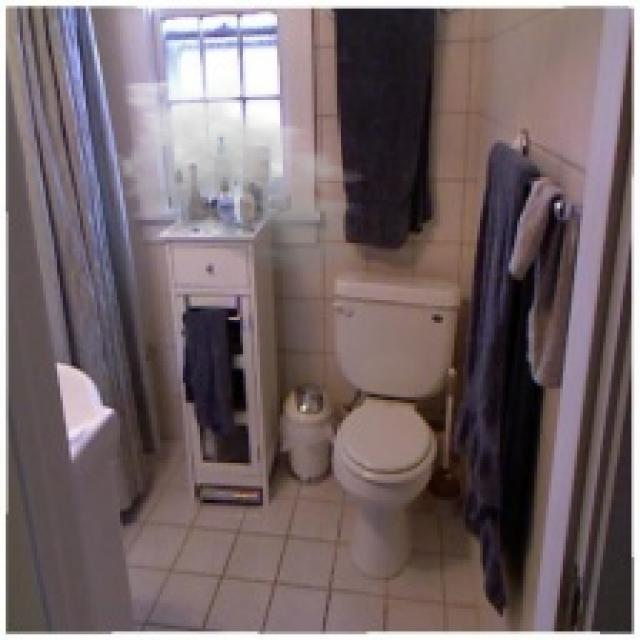Smoke: (108, 74, 380, 277)
